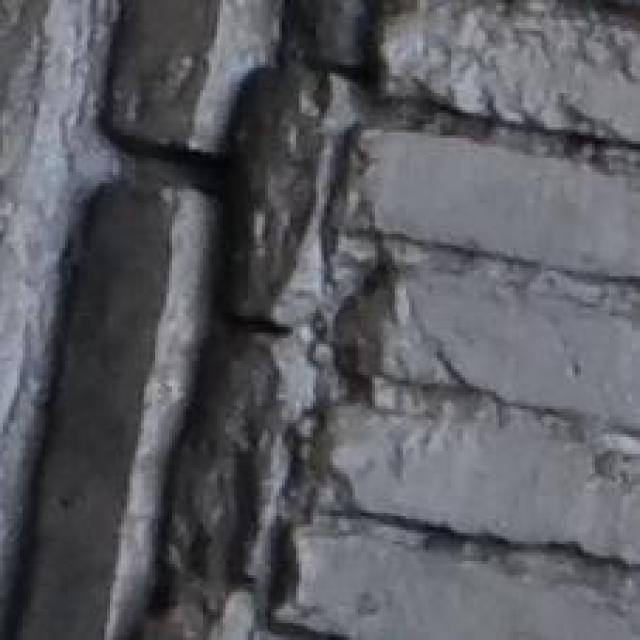Crack: (21, 0, 400, 640)
